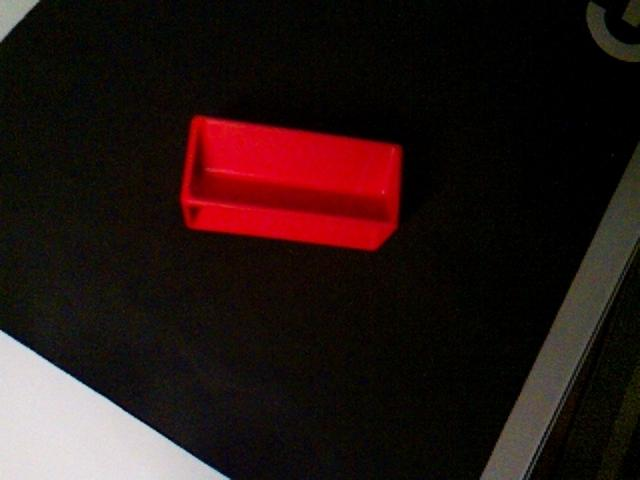red: (179, 112, 405, 253)
